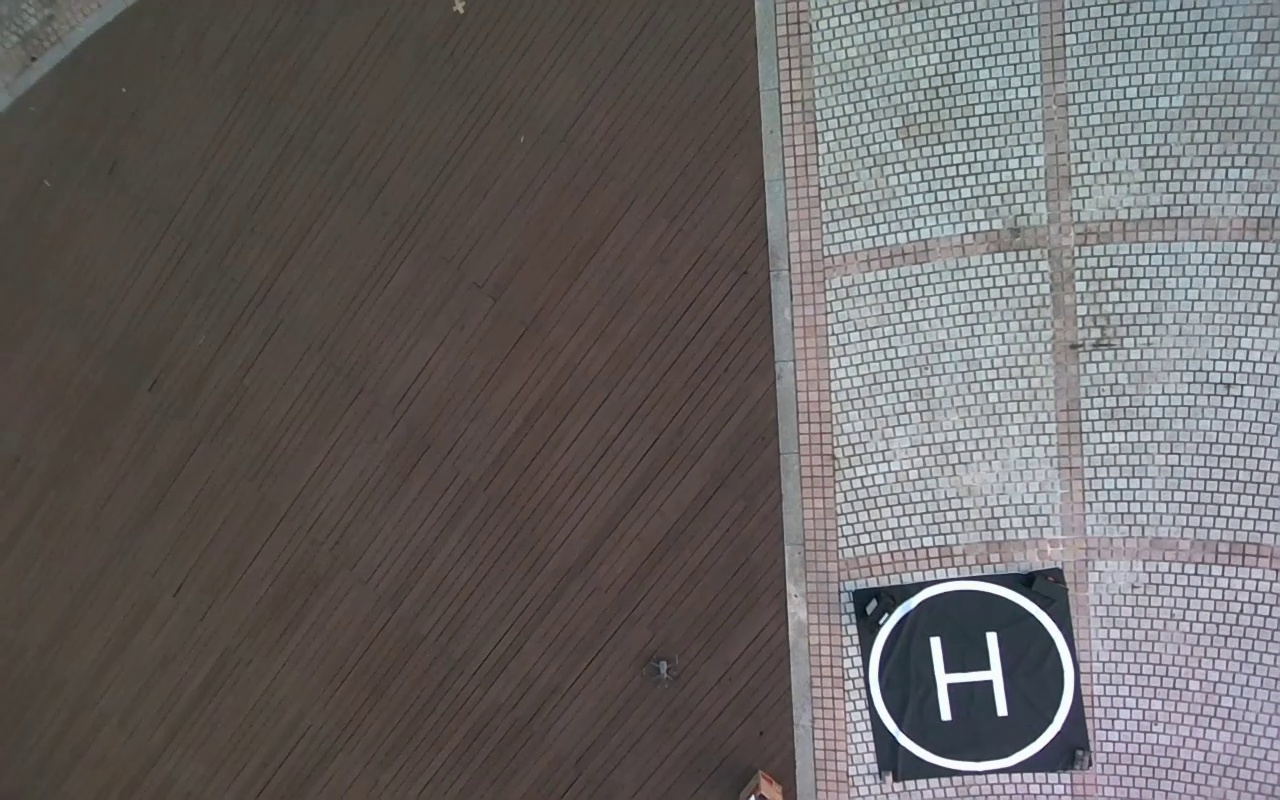H: (928, 630, 1011, 722)
heliport: (870, 580, 1077, 771)
